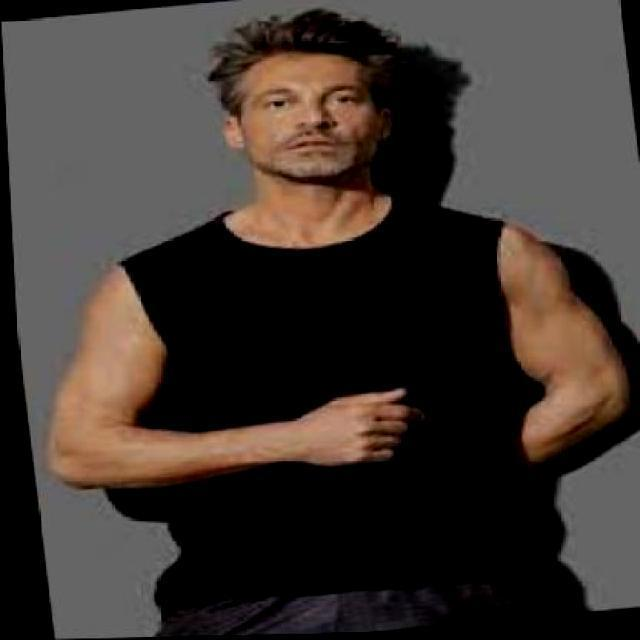no_vest: (109, 186, 543, 612)
